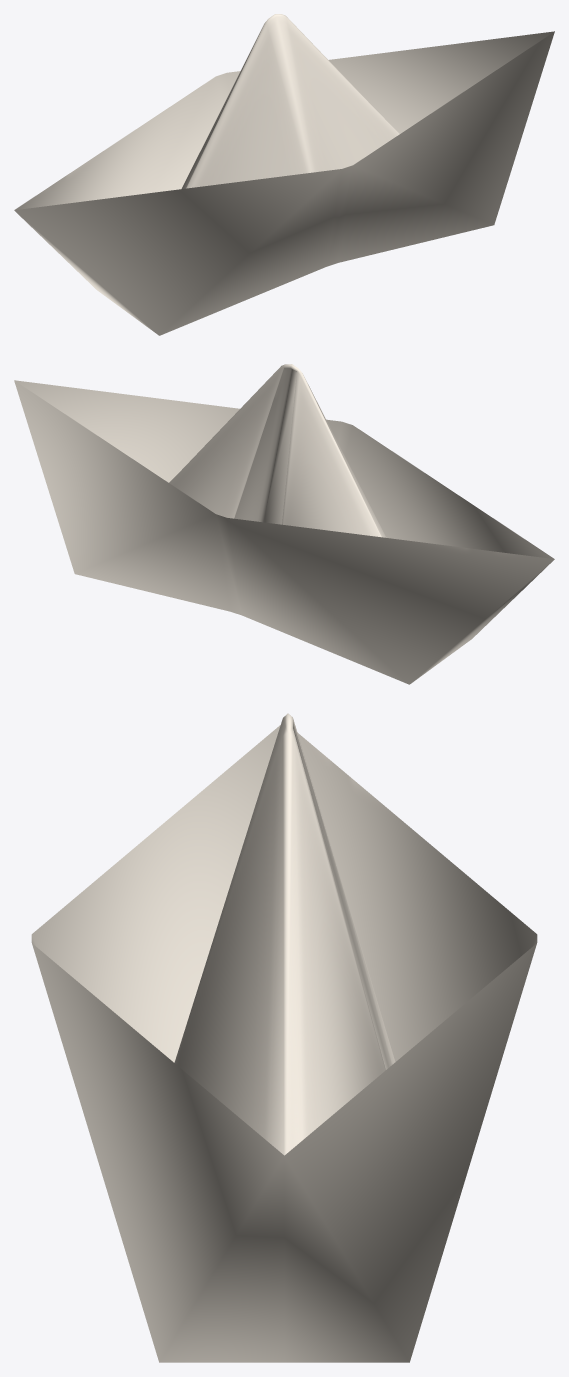
Rendered from Paper Boat.fbx.
3 views of the same model, one above another, from view 1: azimuth 30°, elevation 25°; view 2: azimuth 150°, elevation 25°; view 3: azimuth 270°, elevation 25° (orthographic). The views are drawn at different scales.
Visible parts, largest first — view 1: Paper Boat; view 2: Paper Boat; view 3: Paper Boat.
Part boxes in pixels (box(x1,y1,x2,y2)): Paper Boat: box(14, 14, 554, 335); Paper Boat: box(14, 364, 554, 684); Paper Boat: box(31, 713, 537, 1362).
Bounding box in the file's own units: 39.07 × 18.1 × 15.8.
